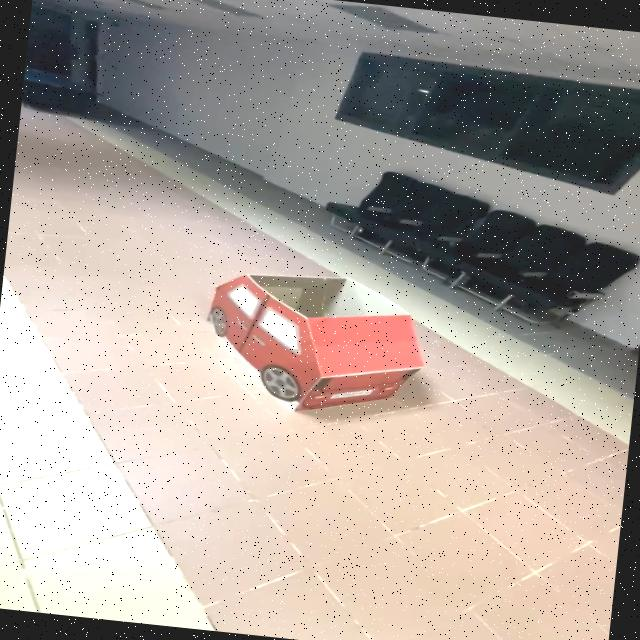red_car: (171, 246, 452, 448)
